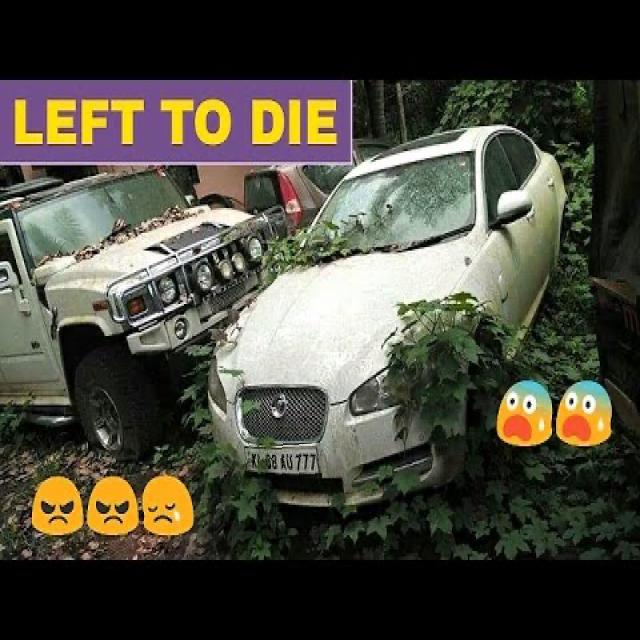licence: (240, 443, 323, 487)
